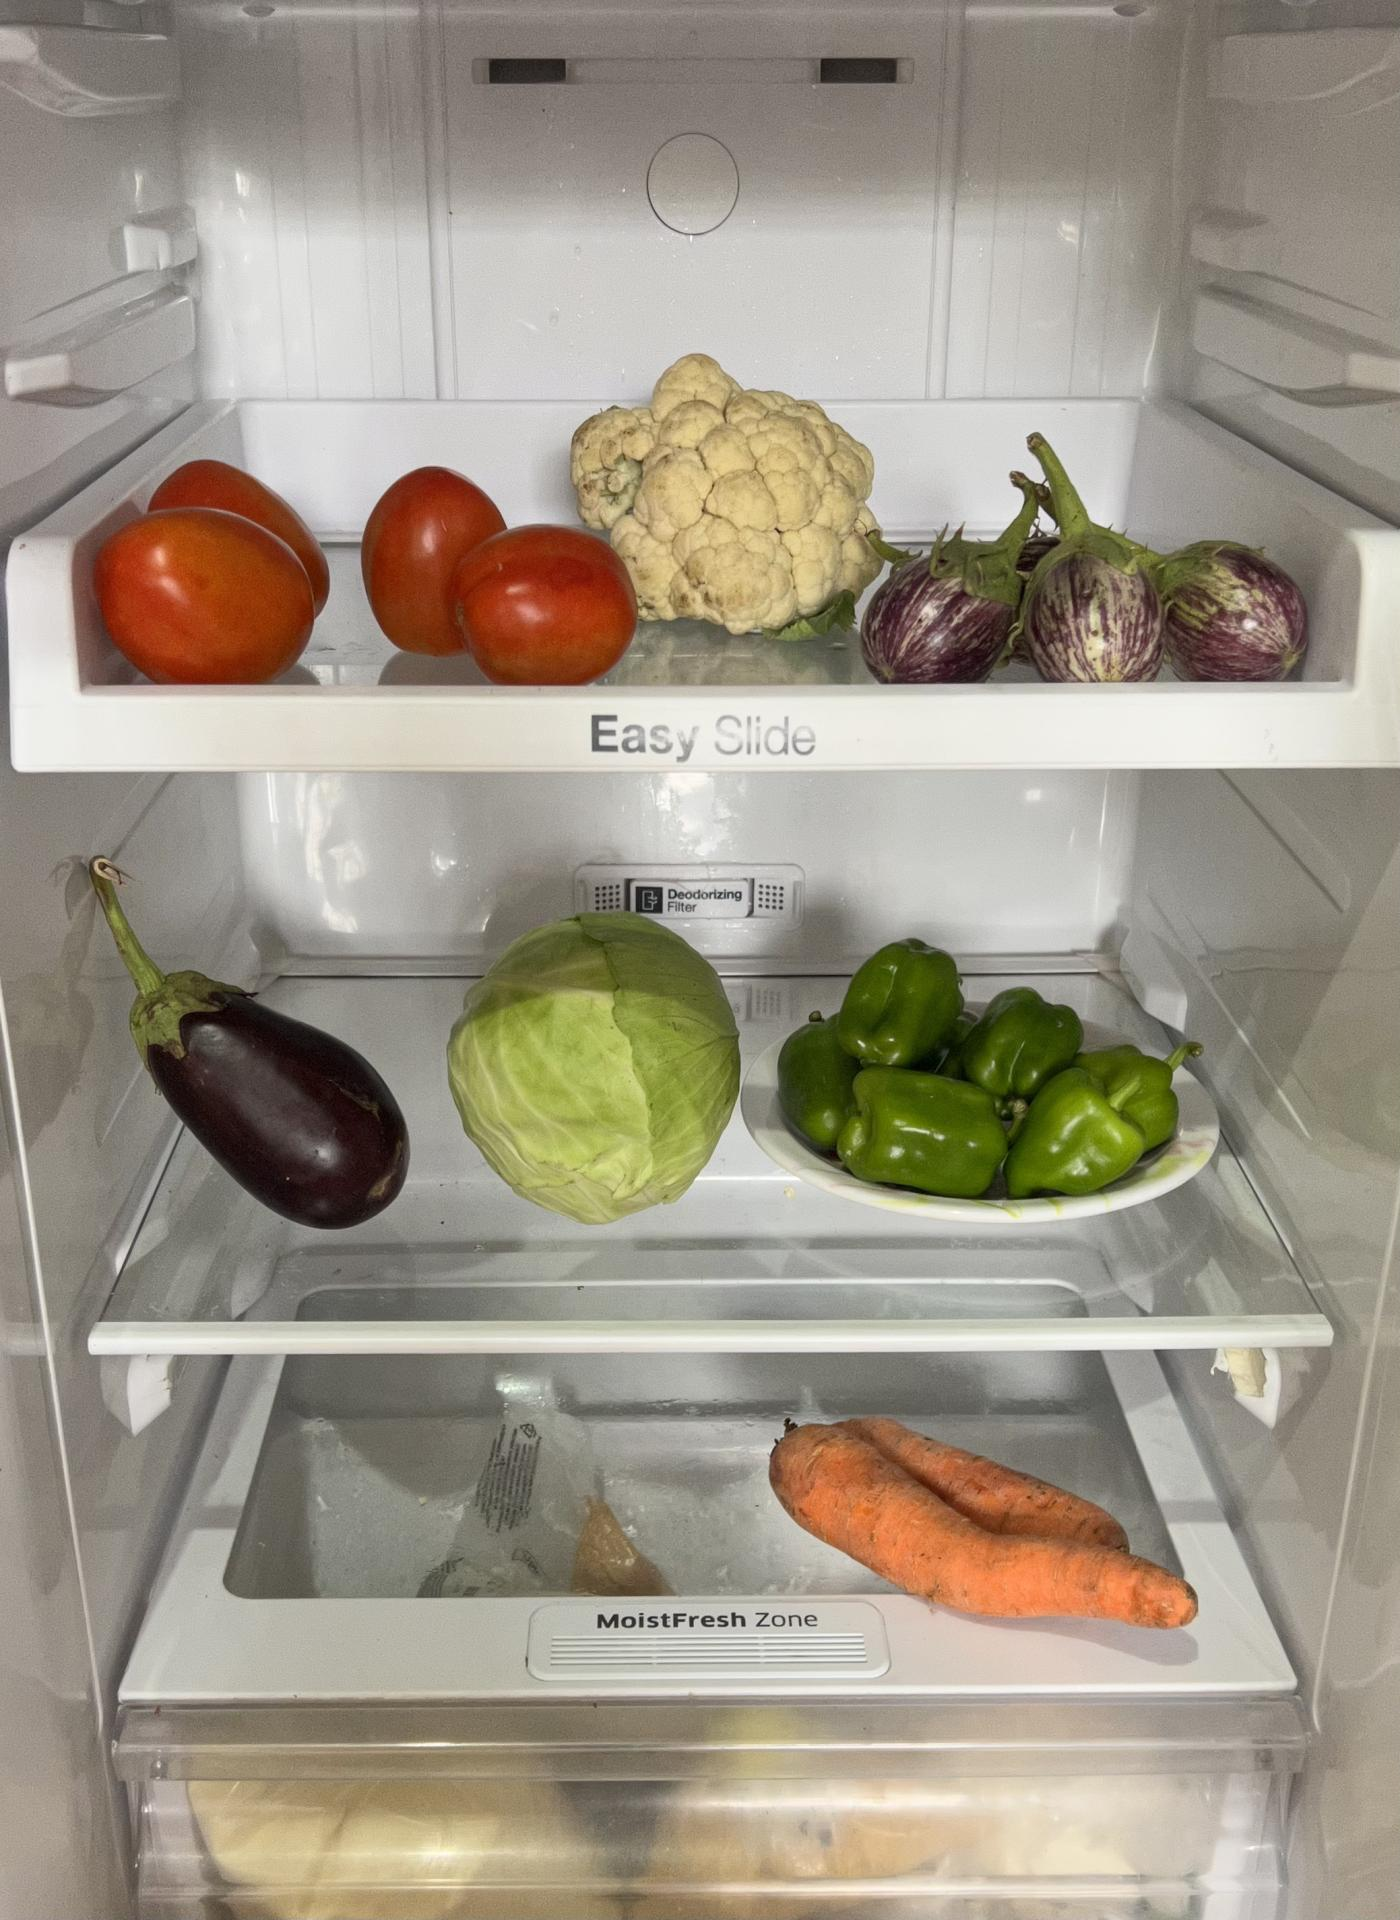cabbage: (455, 917, 734, 1215)
capsicum: (783, 941, 1181, 1203)
carrots: (769, 1410, 1193, 1625)
cauliflower: (583, 346, 868, 601)
tomato: (100, 453, 614, 671)
